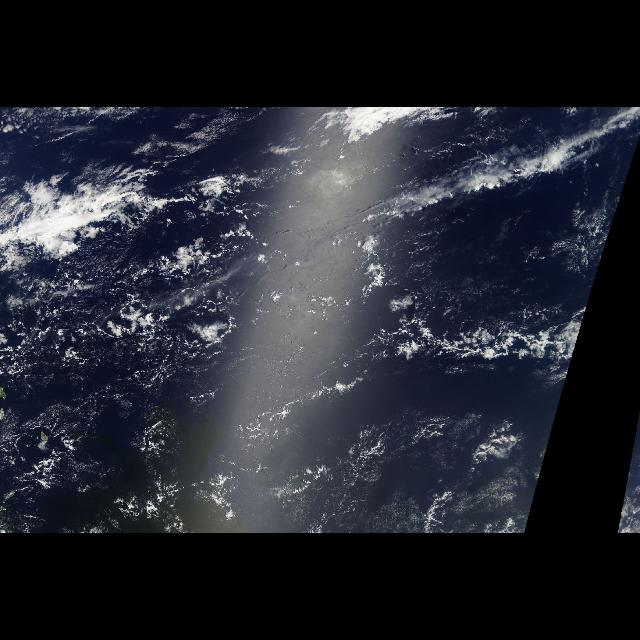Fish: (329, 118, 606, 254), (357, 271, 593, 397)
Gravel: (1, 271, 241, 381)
Sugar: (196, 143, 528, 532)
